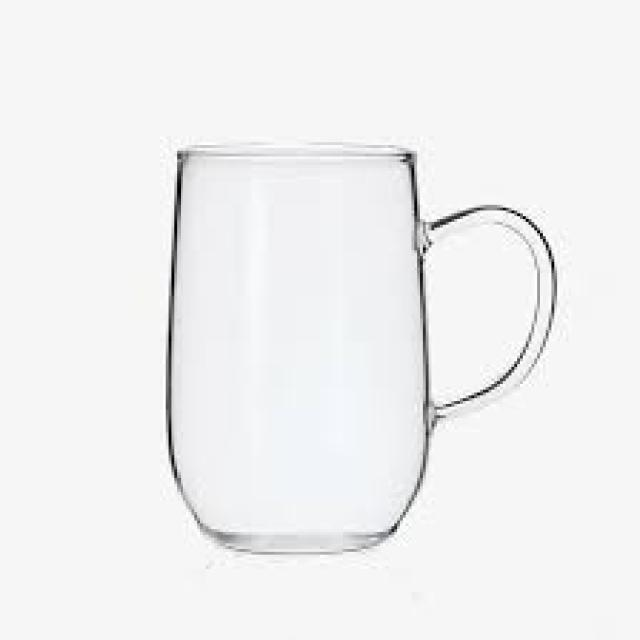Glass: (167, 137, 558, 555)
